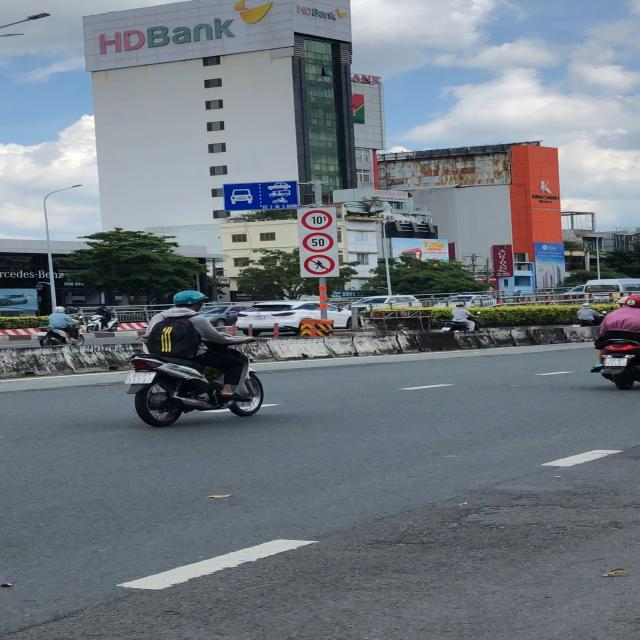Bien bao cam nguoi di bo: (301, 254, 339, 278)
Bien bao toc do toi da cho phep: (300, 230, 334, 255)
